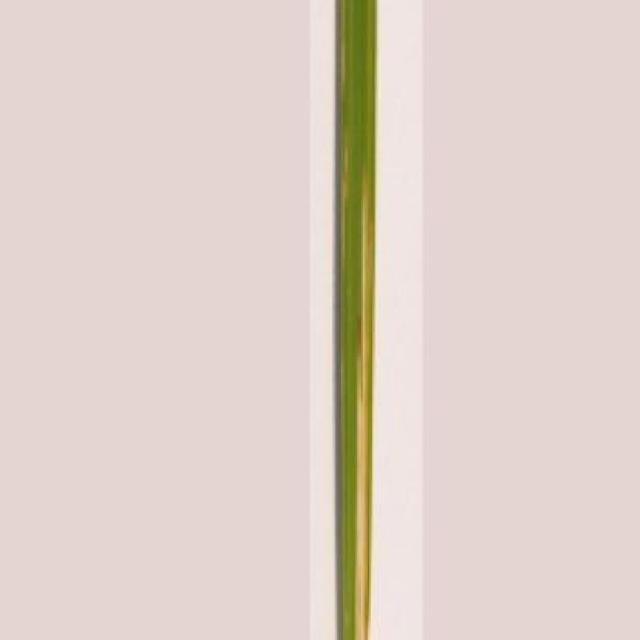Brown_Spot: (328, 0, 382, 640)
